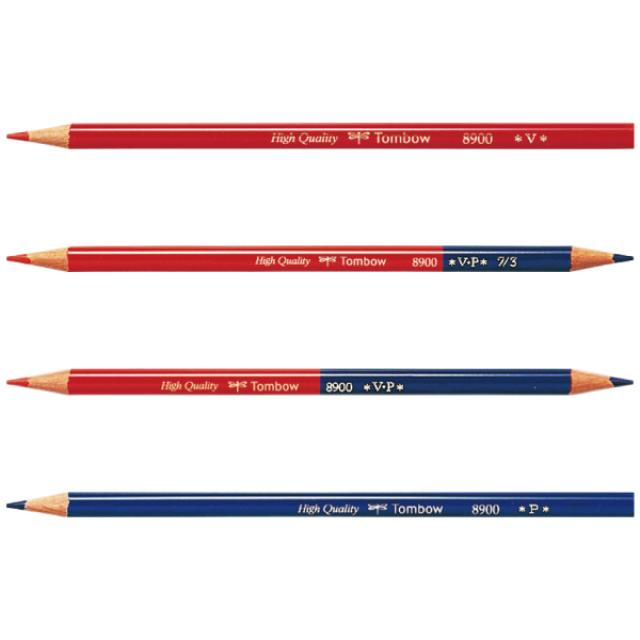pencil: (2, 114, 636, 156), (4, 364, 639, 404), (1, 240, 638, 278), (3, 487, 638, 524)
